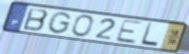2: (93, 17, 118, 41)
B: (21, 7, 50, 33)
E: (114, 18, 144, 45)
G: (46, 11, 73, 35)
L: (139, 22, 160, 48)
O: (70, 14, 95, 38)
